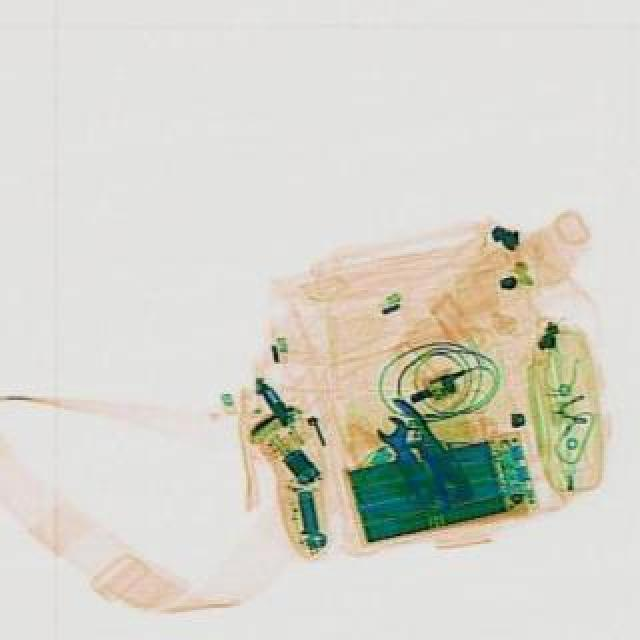knife: (382, 392, 480, 504)
scissors: (368, 408, 446, 504)
